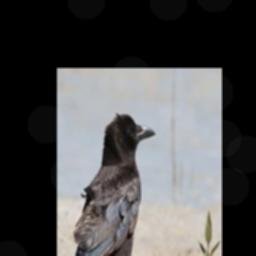Crow: (65, 111, 157, 256)
